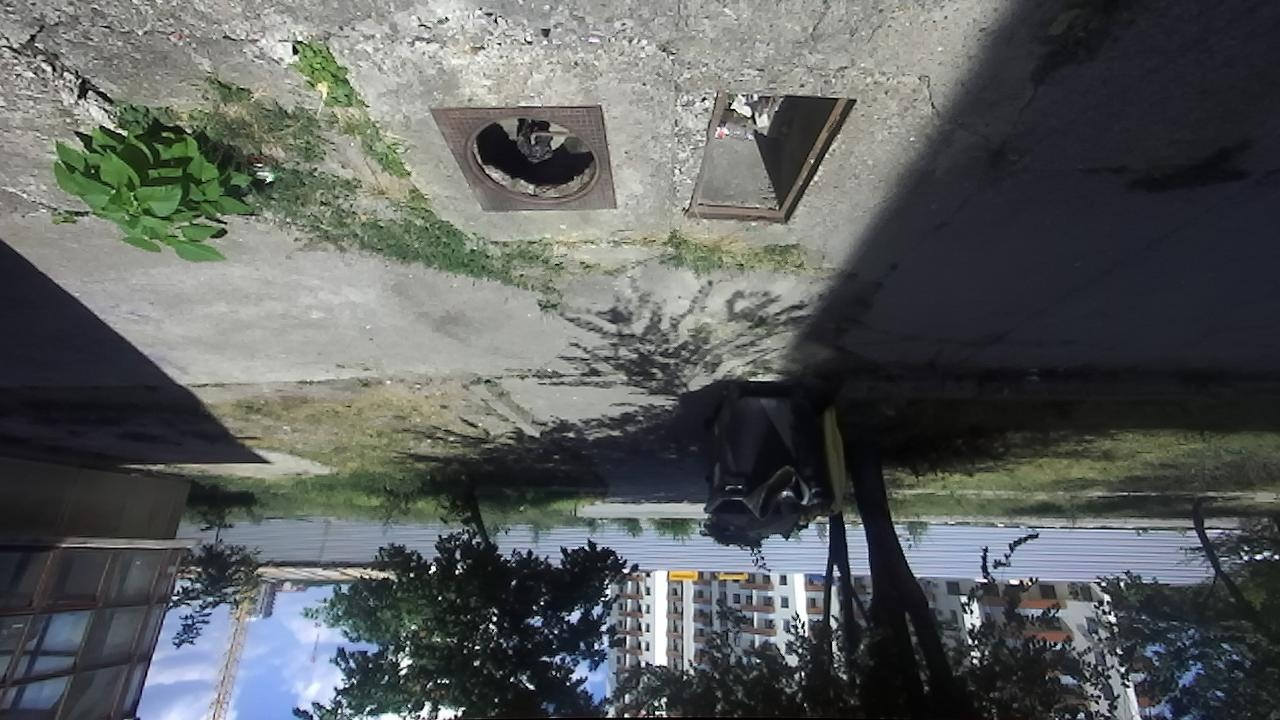drain: (679, 90, 860, 227), (455, 111, 601, 206)
